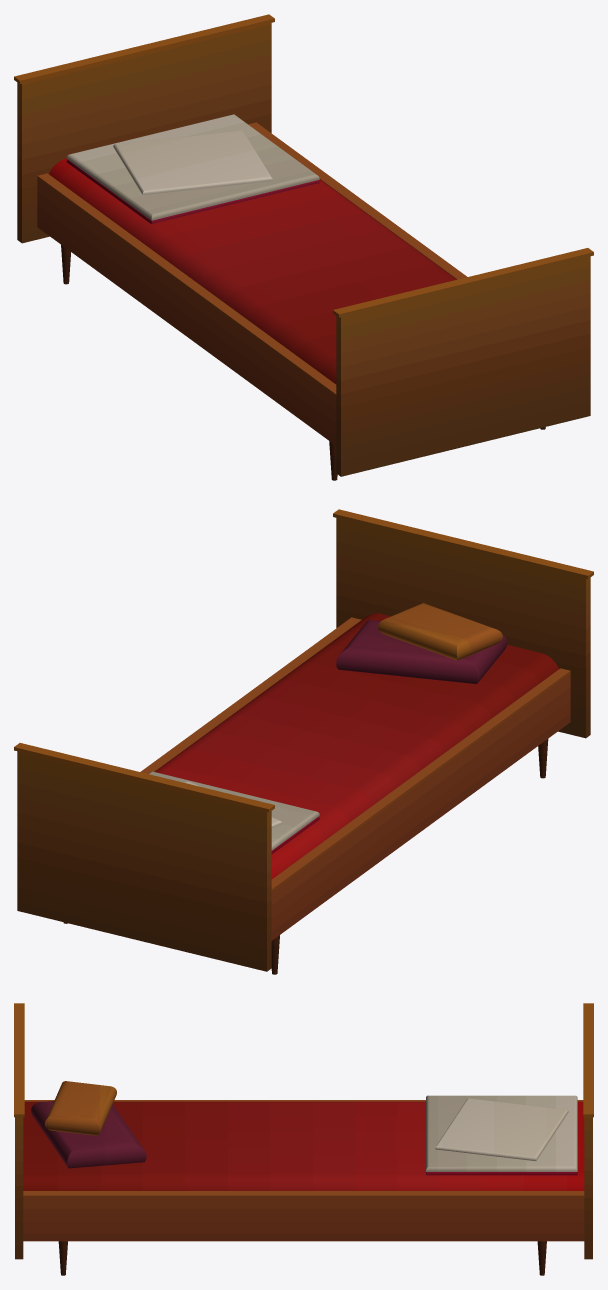
Rendered from bed.fbx.
3 renders of one model, top to bottom at view 1: azimuth 30°, elevation 25°; view 2: azimuth 150°, elevation 25°; view 3: azimuth 270°, elevation 25°, orthographic. The views are drawn at different scales.
Visible parts, largest first — view 1: bed; view 2: bed; view 3: bed.
Part boxes in pixels (box(x1,y1,x2,y2)): bed: box(14, 14, 593, 480); bed: box(14, 509, 593, 974); bed: box(14, 1003, 593, 1275).
Bounding box in the file's own units: 161 × 115 × 354.
